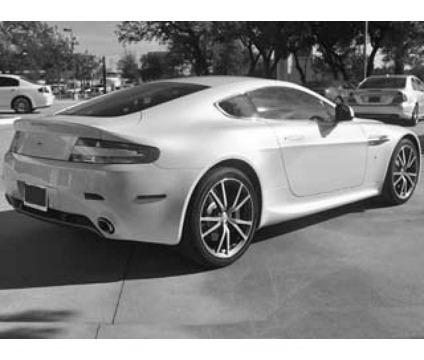car: (4, 61, 423, 276)
